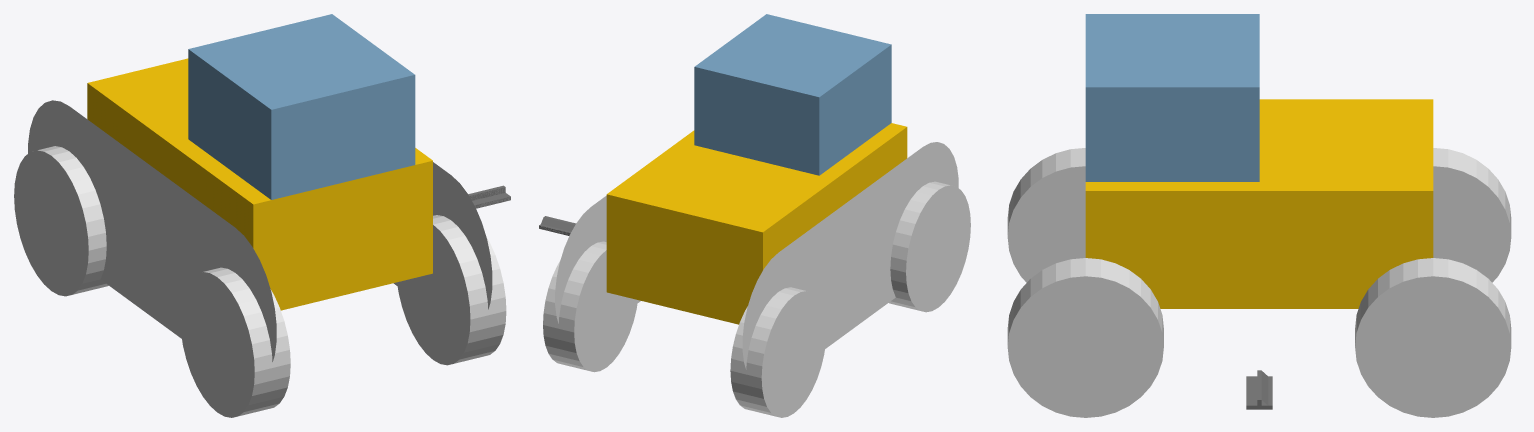
The model's file is bulldozer_components.glb.
3 renders of one model, left to right at view 1: azimuth 30°, elevation 25°; view 2: azimuth 150°, elevation 25°; view 3: azimuth 270°, elevation 25°, orthographic. The views are drawn at different scales.
Visible parts, largest first — view 1: Bulldozer_Body, Asset_TrackPath_L, Asset_TrackPath_R, Asset_TrackLink; view 2: Bulldozer_Body, Asset_TrackPath_L, Asset_TrackPath_R, Asset_TrackLink; view 3: Bulldozer_Body, Asset_TrackLink.
Boxes of the visible parts, x1,y1,x2,y2 form: Bulldozer_Body: (14, 14, 506, 417); Asset_TrackPath_L: (28, 100, 276, 361); Asset_TrackPath_R: (393, 162, 492, 309); Asset_TrackLink: (468, 185, 510, 208); Bulldozer_Body: (543, 14, 970, 417); Asset_TrackPath_L: (742, 142, 958, 369); Asset_TrackPath_R: (555, 195, 640, 323); Asset_TrackLink: (539, 216, 575, 235); Bulldozer_Body: (1007, 14, 1511, 417); Asset_TrackLink: (1246, 370, 1272, 409).
Size of the model in its own units: 5.15 by 3.85 by 5.99.
